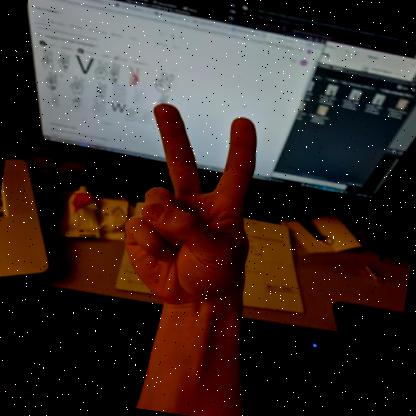V: (124, 103, 256, 315)
